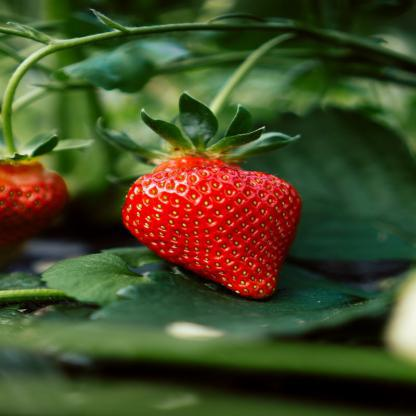strawberry: (90, 105, 379, 312)
